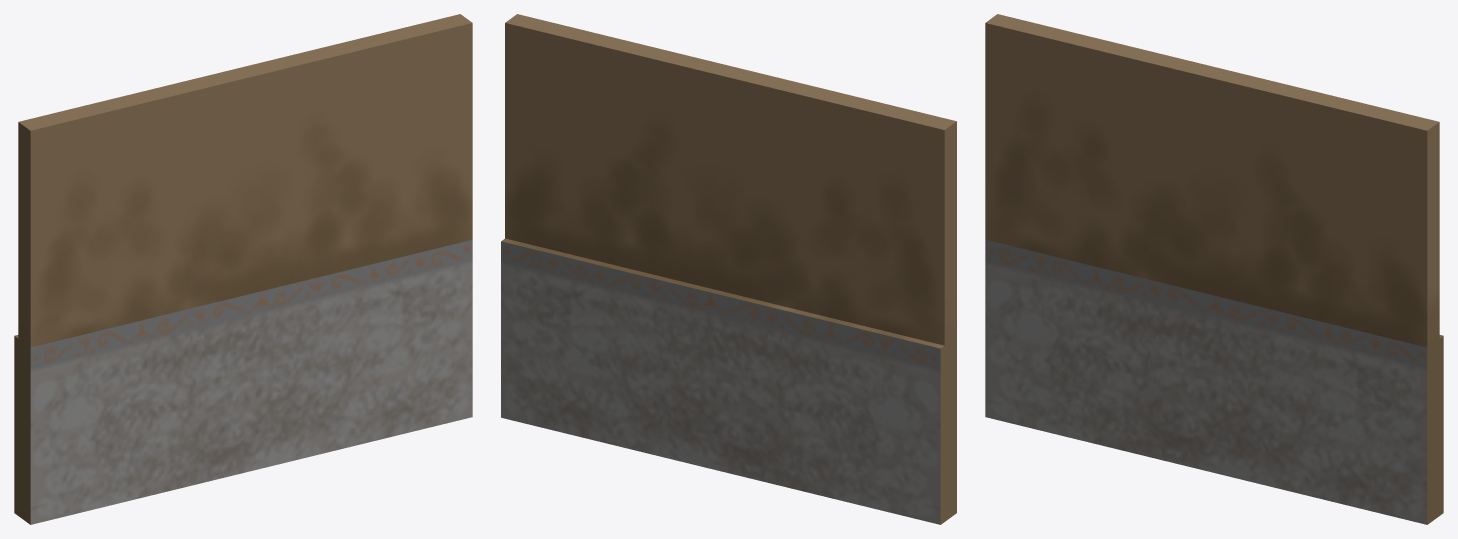
File: BrownGray_ModularLowWall.fbx
3 renders of one model, left to right at view 1: azimuth 30°, elevation 25°; view 2: azimuth 150°, elevation 25°; view 3: azimuth 330°, elevation 25°, orthographic.
Parts seen in each view (by area): view 1: Cube.007; view 2: Cube.007; view 3: Cube.007.
Part boxes in pixels (x1=…): Cube.007: x1=14, y1=14, x2=472, y2=524; Cube.007: x1=501, y1=14, x2=956, y2=524; Cube.007: x1=985, y1=14, x2=1443, y2=524.
Size of the model in its own units: 4.14 by 3.53 by 0.2635.
